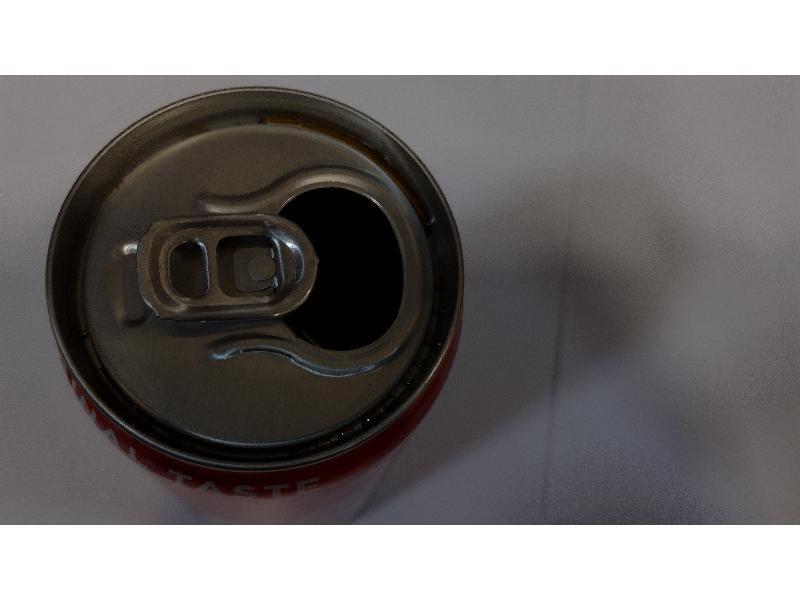can: (41, 77, 475, 511)
